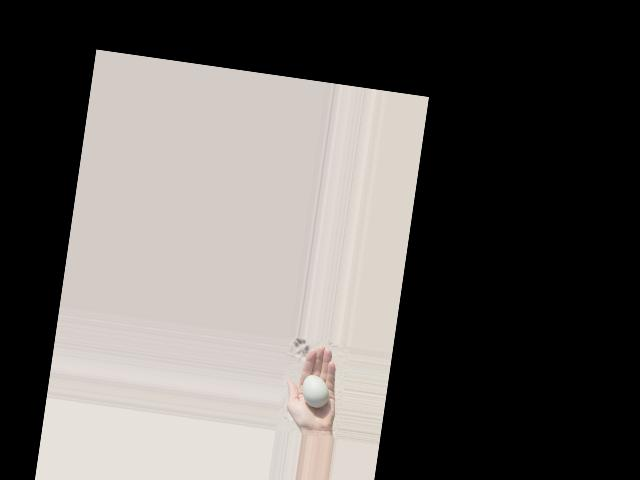egg: (300, 373, 331, 408)
